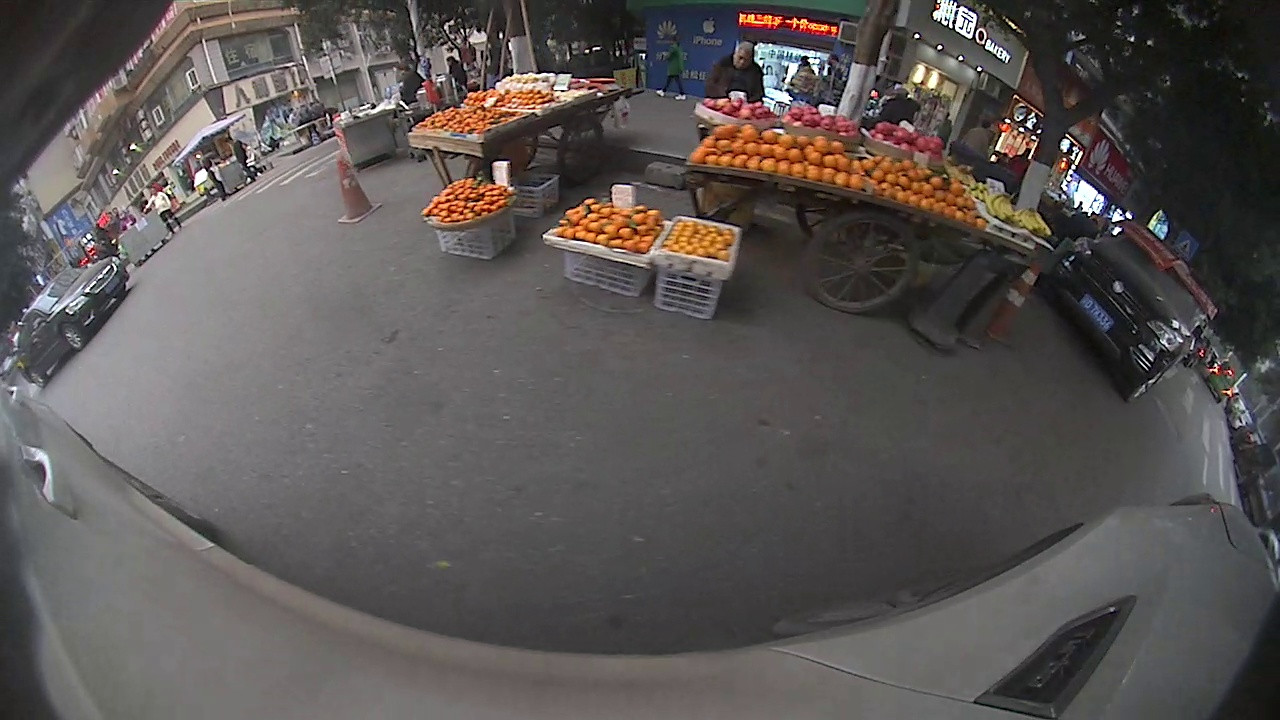car: (1051, 232, 1208, 403), (17, 256, 130, 386)
front: (59, 323, 85, 351)
person: (713, 37, 763, 103)
rear: (24, 367, 46, 391)
